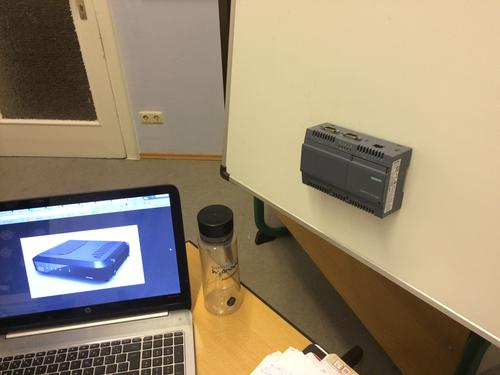iot2000: (300, 122, 414, 221)
